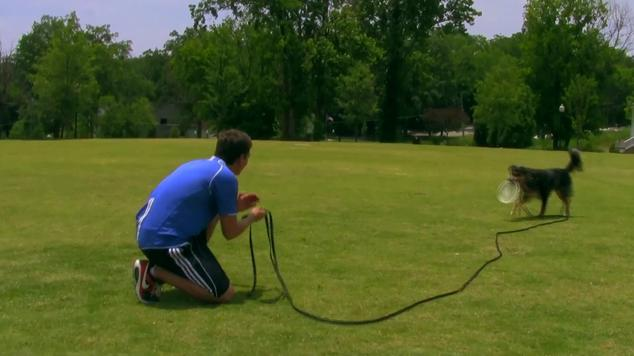down: (506, 157, 571, 213)
sit: (506, 157, 571, 213)
